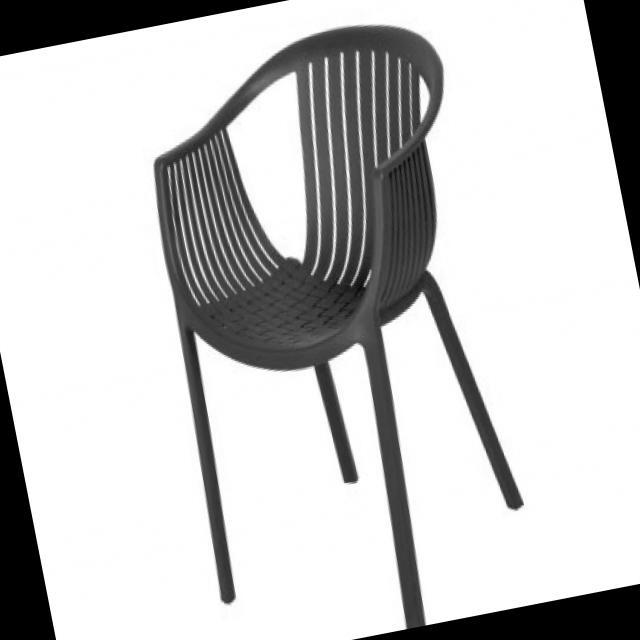chair: (110, 5, 548, 640)
